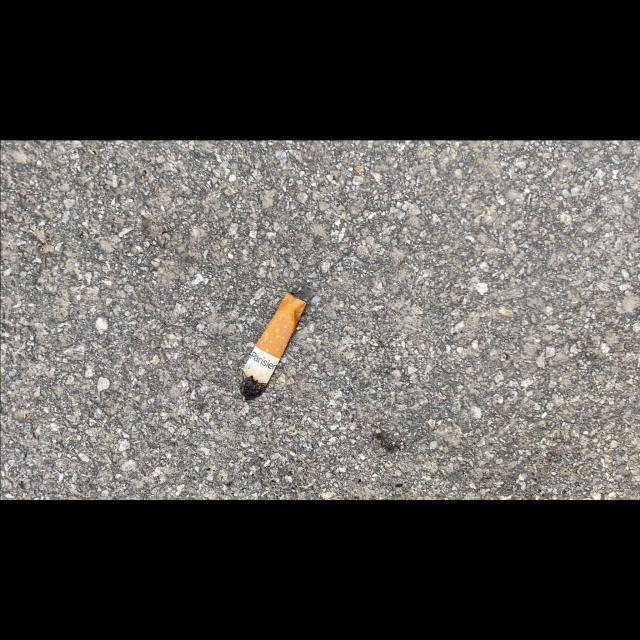cigarette: (238, 290, 308, 401)
